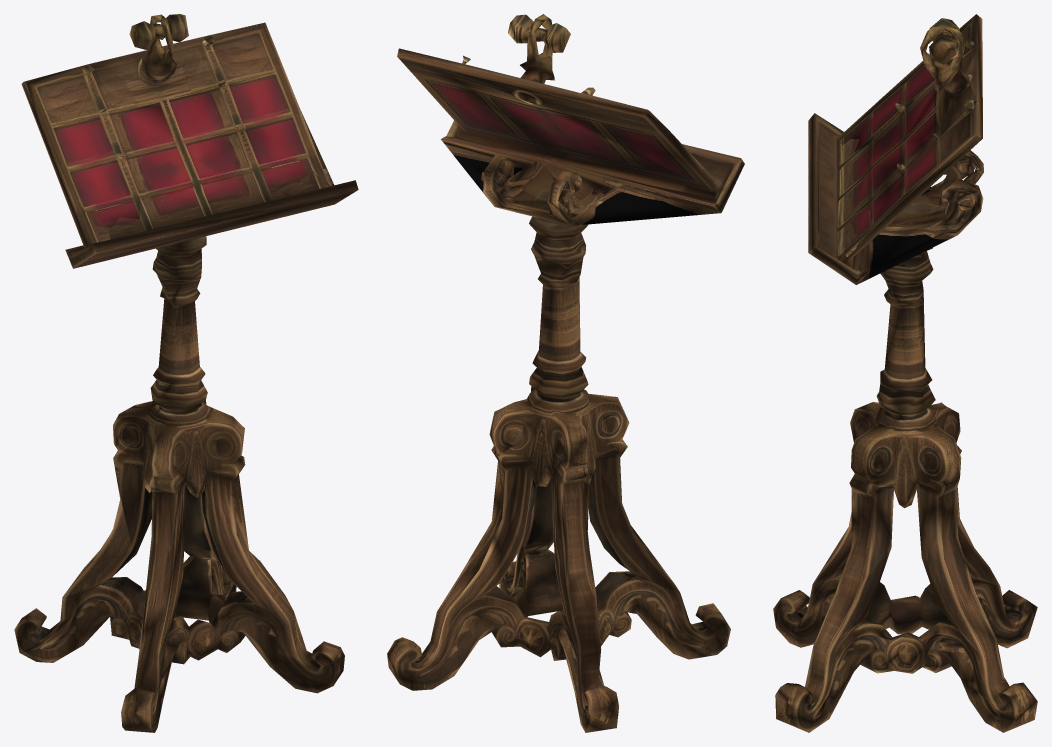
The model's file is 10_music_stand.fbx.
3 renders of one model, left to right at view 1: azimuth 30°, elevation 25°; view 2: azimuth 150°, elevation 25°; view 3: azimuth 270°, elevation 25°, orthographic. The views are drawn at different scales.
Visible parts, largest first — view 1: Mesh1.0; view 2: Mesh1.0; view 3: Mesh1.0.
Boxes of the visible parts, box(x1,y1,x2,y2) form: Mesh1.0: box(14, 14, 358, 732); Mesh1.0: box(387, 14, 744, 732); Mesh1.0: box(773, 14, 1037, 732).
Size of the model in its own units: 81.57 by 189 by 68.87.
1 material, 1 textured.
